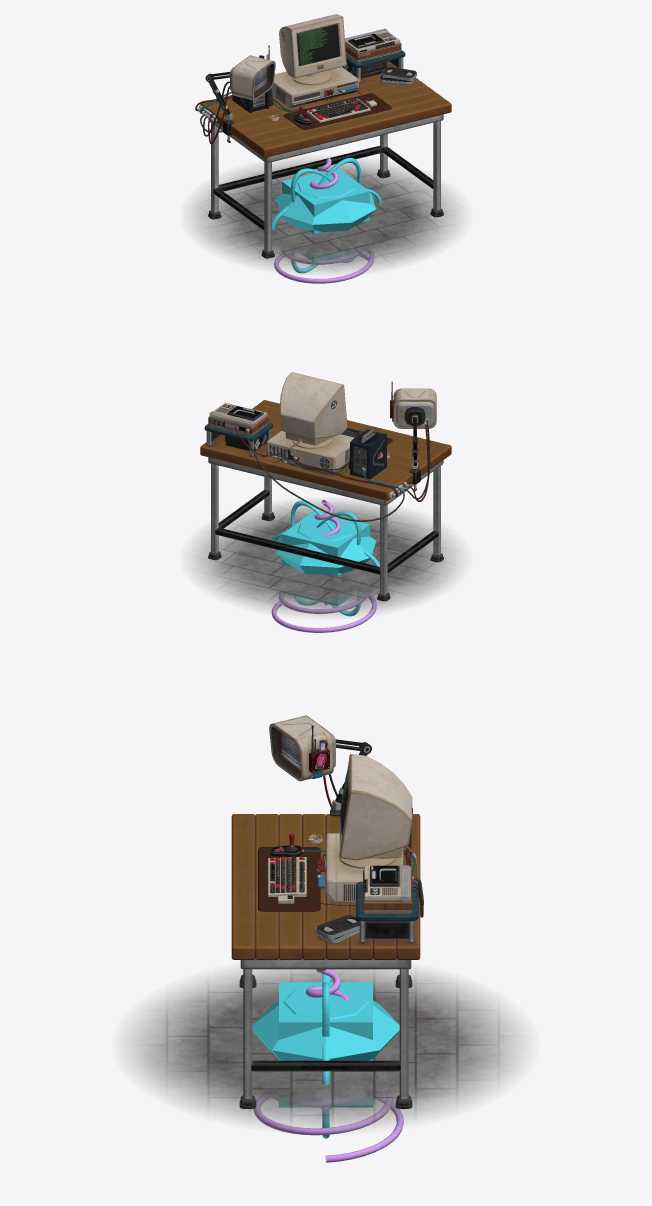
Rendered from kta-floating-world.glb.
3 renders of one model, top to bottom at view 1: azimuth 30°, elevation 25°; view 2: azimuth 150°, elevation 25°; view 3: azimuth 270°, elevation 25°, orthographic. The views are drawn at different scales.
Visible parts, largest first — view 1: Ground, table, computer, FloatingDiamond, screen, FloatingCube, Tv, Lavender coil, vhs, peripherals, keyboard_mat, props (+5 smaller); view 2: Ground, table, computer, FloatingDiamond, Cables, Lavender coil, server, FloatingCube, Tv, vhs, shelf, arm; view 3: Ground, table, computer, FloatingDiamond, Tv, Lavender coil, FloatingCube, vhs, peripherals, keyboard_mat, shelf, props (+2 smaller).
Part boxes in pixels (x1,y1,x2,y2): Ground: [189, 158, 462, 273]; table: [200, 61, 451, 258]; computer: [271, 14, 358, 108]; FloatingDiamond: [275, 174, 376, 232]; screen: [254, 24, 339, 92]; FloatingCube: [282, 168, 369, 263]; Tv: [230, 45, 275, 100]; Lavender coil: [274, 158, 374, 283]; vhs: [345, 28, 401, 62]; peripherals: [293, 98, 376, 124]; keyboard_mat: [284, 93, 391, 130]; props: [269, 61, 416, 120]; Ground: [189, 501, 462, 616]; table: [200, 400, 451, 601]; computer: [266, 372, 354, 471]; FloatingDiamond: [276, 518, 375, 604]; Cables: [235, 419, 430, 521]; Lavender coil: [271, 500, 376, 632]; server: [350, 429, 386, 479]; FloatingCube: [282, 511, 369, 606]; Tv: [390, 381, 436, 428]; vhs: [208, 402, 268, 435]; shelf: [204, 423, 272, 456]; arm: [404, 407, 425, 491]; Ground: [125, 968, 526, 1129]; table: [231, 814, 420, 1108]; computer: [317, 754, 412, 903]; FloatingDiamond: [252, 984, 399, 1108]; Tv: [269, 715, 335, 781]; Lavender coil: [253, 969, 403, 1162]; FloatingCube: [279, 982, 372, 1107]; vhs: [363, 865, 412, 913]; peripherals: [268, 833, 309, 903]; keyboard_mat: [258, 847, 320, 911]; shelf: [356, 881, 418, 943]; props: [306, 834, 359, 943].
Size of the model in its own units: 5 by 2.87 by 4.5.
Materials: 16 (14 with a texture image).
